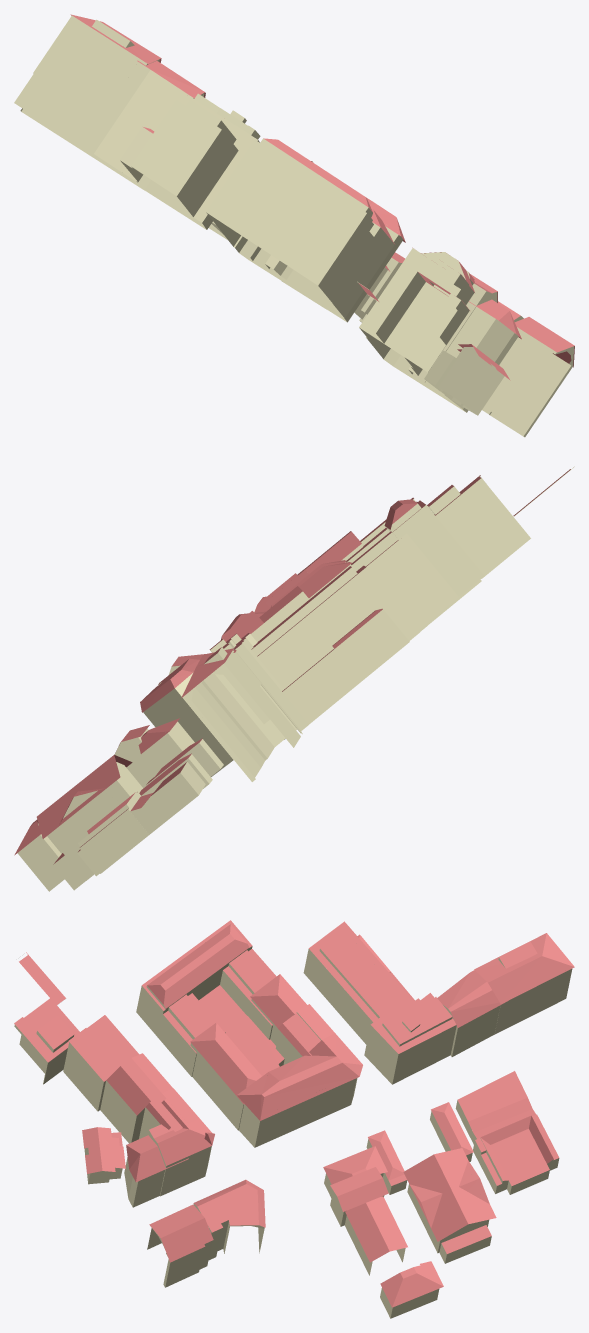
The model's file is tile_013.glb.
3 views of the same model, one above another, from view 1: azimuth 30°, elevation 25°; view 2: azimuth 150°, elevation 25°; view 3: azimuth 270°, elevation 25° (orthographic). The views are drawn at different scales.
Parts seen in each view (by area): view 1: Batched_Building_ID_44EC3BEE-011B-461E-998A-84C0023209F2, Batched_Building_ID_99AD8278-C38C-483A-BFF3-90F975AF3001; view 2: Batched_Building_ID_44EC3BEE-011B-461E-998A-84C0023209F2, Batched_Building_ID_99AD8278-C38C-483A-BFF3-90F975AF3001; view 3: Batched_Building_ID_99AD8278-C38C-483A-BFF3-90F975AF3001, Batched_Building_ID_44EC3BEE-011B-461E-998A-84C0023209F2.
Part boxes in pixels (bbox=[...]): Batched_Building_ID_44EC3BEE-011B-461E-998A-84C0023209F2: bbox=[14, 15, 574, 437]; Batched_Building_ID_99AD8278-C38C-483A-BFF3-90F975AF3001: bbox=[70, 14, 574, 380]; Batched_Building_ID_44EC3BEE-011B-461E-998A-84C0023209F2: bbox=[17, 466, 574, 891]; Batched_Building_ID_99AD8278-C38C-483A-BFF3-90F975AF3001: bbox=[14, 469, 570, 864]; Batched_Building_ID_99AD8278-C38C-483A-BFF3-90F975AF3001: bbox=[14, 920, 574, 1307]; Batched_Building_ID_44EC3BEE-011B-461E-998A-84C0023209F2: bbox=[14, 946, 572, 1318].
Size of the model in its own units: 116 by 112 by 193.
